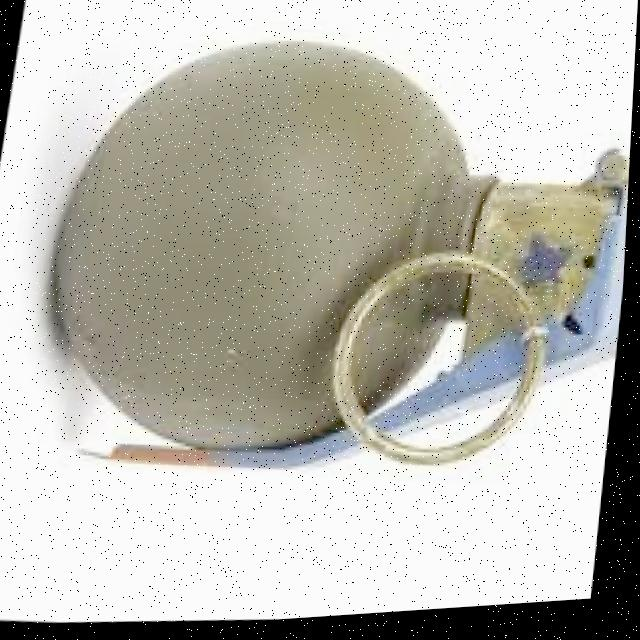grenade: (28, 0, 639, 518)
